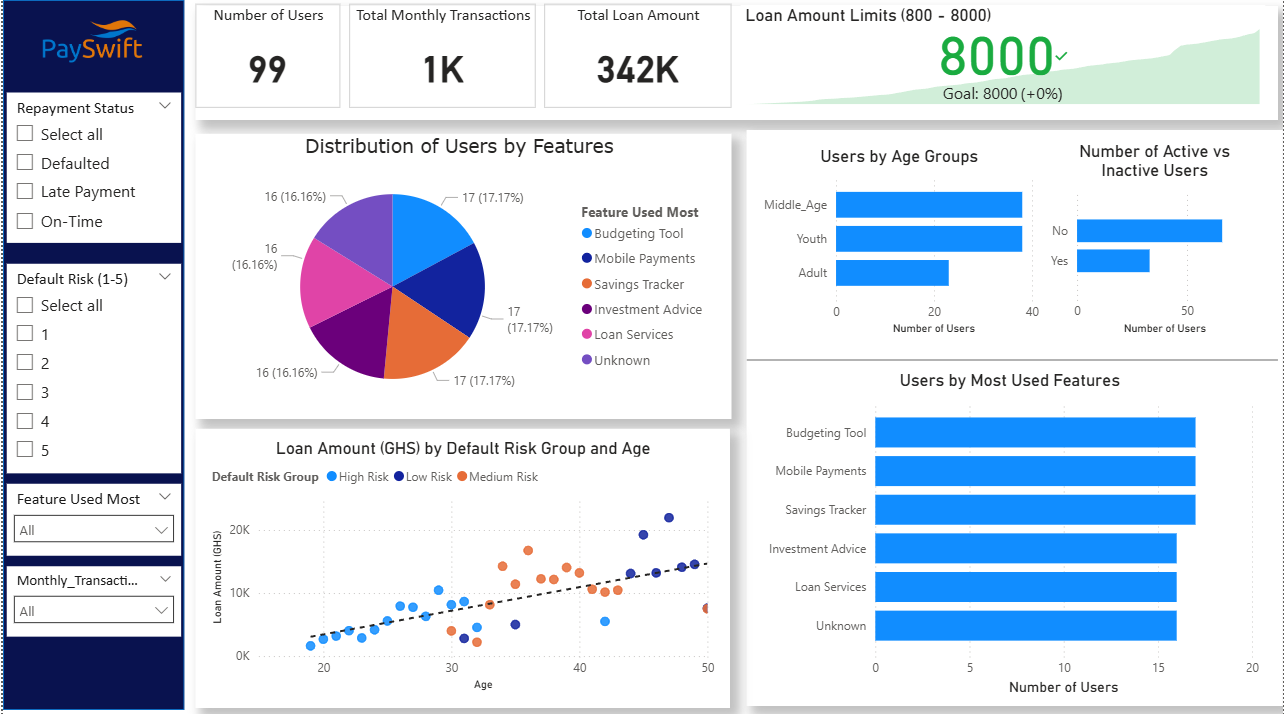

This screenshot's page, from the dashboard's own definition file:
{"tool":"powerbi","page":{"name":"Dashboard","canvas":[1280,720],"ordinal":0},"visuals":[{"type":"shape","box":[192,5.8,1082.2,113.5],"z":0},{"type":"shape","box":[192,133.8,536,285],"z":1000},{"type":"shape","box":[744.3,130,535.7,575.7],"z":2000},{"type":"shape","box":[192.7,429.1,534.5,279.1],"z":3000},{"type":"shape","box":[0,0,181.4,710],"z":4000},{"type":"cardVisual","title":"Number of Users","fields":{"Data":["CountNonNull(main_dataset_copy.User ID)"]},"box":[192.2,3.3,144.4,104],"z":5000},{"type":"slicer","fields":{"Values":["main_dataset_copy.Repayment Status"]},"box":[3.6,92.1,174.3,150.7],"z":6000},{"type":"slicer","fields":{"Values":["main_dataset_copy.Default Risk (1-5)"]},"box":[3.6,263.6,174.3,209.3],"z":7000},{"type":"slicer","fields":{"Values":["main_dataset_copy.Monthly_Transactions_Group"]},"box":[4.3,566.4,174.3,70],"z":8000},{"type":"slicer","fields":{"Values":["main_dataset_copy.Feature Used Most"]},"box":[3.6,484.3,174.3,72.1],"z":9000},{"type":"cardVisual","title":"Total Monthly Transactions","fields":{"Data":["Sum(main_dataset_copy.Monthly Transactions)"]},"box":[346.7,3.3,186.7,104],"z":10000},{"type":"cardVisual","title":"Total Loan Amount ","fields":{"Data":["Sum(main_dataset_copy.Loan Amount (GHS))"]},"box":[541.2,3.2,187,104],"z":11000},{"type":"kpi","title":"Loan Amount Limits (800 - 8000)","fields":{"Indicator":["Min(main_dataset_copy.Loan Amount (GHS))"],"TrendLine":["main_dataset_copy.Loan Amount (GHS)"],"Goal":["Max(main_dataset_copy.Loan Amount (GHS))"]},"box":[737.3,4.5,524.5,104.5],"z":12000},{"type":"pieChart","title":"Distribution of Users by Features ","fields":{"Category":["main_dataset_copy.Feature Used Most"],"Y":["CountNonNull(main_dataset_copy.Feature Used Most)"]},"box":[196.5,135.6,520,281.1],"z":13000},{"type":"barChart","title":"Users by Age Groups","fields":{"Category":["main_dataset_copy.Age_group"],"Y":["CountNonNull(main_dataset_copy.Age)"]},"box":[750.9,146.4,290,193.6],"z":14000},{"type":"barChart","title":"Churn: Number of Active vs Inactive Users","fields":{"Category":["main_dataset_copy.Churned?"],"Y":["CountNonNull(main_dataset_copy.Churned?)"]},"box":[1040.9,141.8,220.9,198.2],"z":15000},{"type":"scatterChart","title":"Loan Amount (GHS) by Default Risk Group and Age","fields":{"X":["main_dataset_copy.Age"],"Y":["Sum(main_dataset_copy.Loan Amount (GHS))"],"Series":["main_dataset_copy.Default_Risk_Group"]},"box":[203.6,437.1,512.9,258.6],"z":16000},{"type":"barChart","title":"Users by Most Used Features ","fields":{"Y":["CountNonNull(main_dataset_copy.Feature Used Most)"],"Category":["main_dataset_copy.Feature Used Most"]},"box":[752.5,370,508.8,330],"z":17000},{"type":"image","box":[11.8,5.5,154.5,62.7],"z":18000},{"type":"shape","box":[743.8,340,531.2,20],"z":19000}]}

Visuals, with their boxes in screenshot pixels (x1, y1, x2, y2), scaled from the page's 1280x720 canvas onto the 1284x714 screenshot:
shape: <bbox>193, 6, 1278, 118</bbox>
shape: <bbox>193, 133, 730, 415</bbox>
shape: <bbox>747, 129, 1283, 700</bbox>
shape: <bbox>193, 426, 729, 702</bbox>
shape: <bbox>0, 0, 182, 704</bbox>
"Number of Users" cardVisual: <bbox>193, 3, 338, 106</bbox>
slicer - main_dataset_copy.Repayment Status: <bbox>4, 91, 178, 241</bbox>
slicer - main_dataset_copy.Default Risk (1-5): <bbox>4, 261, 178, 469</bbox>
slicer - main_dataset_copy.Monthly_Transactions_Group: <bbox>4, 562, 179, 631</bbox>
slicer - main_dataset_copy.Feature Used Most: <bbox>4, 480, 178, 552</bbox>
"Total Monthly Transactions" cardVisual: <bbox>348, 3, 535, 106</bbox>
"Total Loan Amount " cardVisual: <bbox>543, 3, 730, 106</bbox>
"Loan Amount Limits (800 - 8000)" kpi: <bbox>740, 4, 1266, 108</bbox>
"Distribution of Users by Features " pieChart: <bbox>197, 134, 719, 413</bbox>
"Users by Age Groups" barChart: <bbox>753, 145, 1044, 337</bbox>
"Churn: Number of Active vs Inactive Users" barChart: <bbox>1044, 141, 1266, 337</bbox>
"Loan Amount (GHS) by Default Risk Group and Age" scatterChart: <bbox>204, 433, 719, 690</bbox>
"Users by Most Used Features " barChart: <bbox>755, 367, 1265, 694</bbox>
image: <bbox>12, 5, 167, 68</bbox>
shape: <bbox>746, 337, 1279, 357</bbox>
